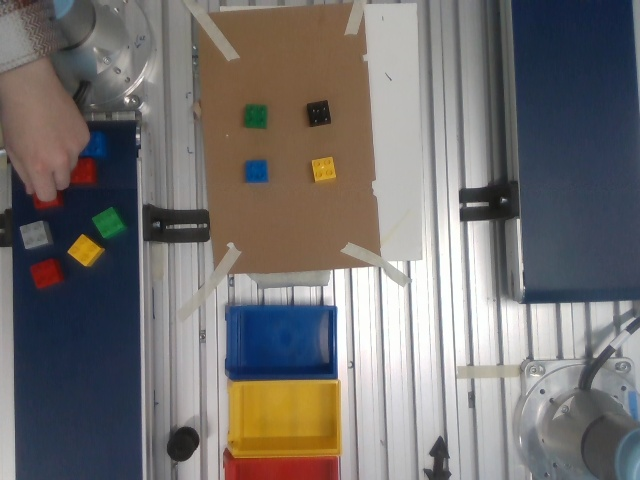duplo_4_blue: (241, 158, 274, 188)
duplo_4_yellow: (306, 156, 342, 188)
ignore: (238, 98, 277, 137), (298, 94, 336, 131)
